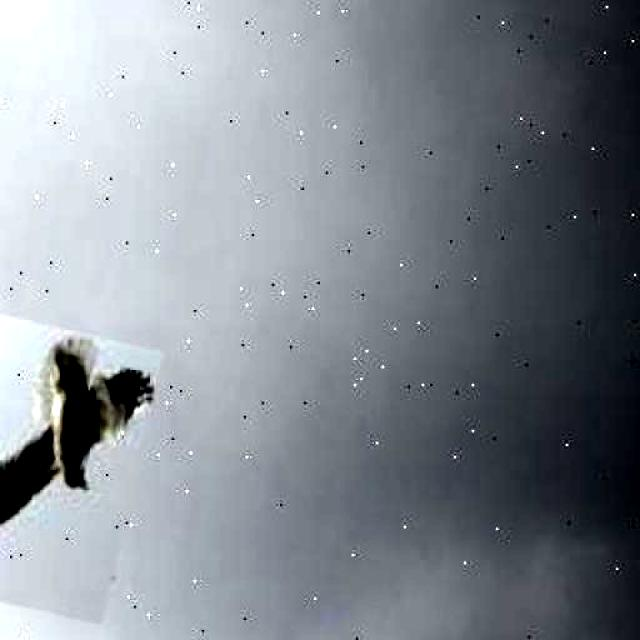airplane: (0, 304, 164, 624)
